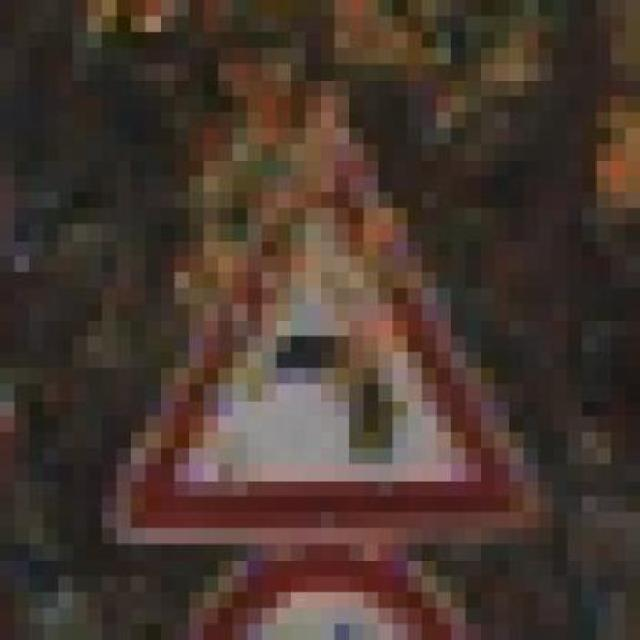Dangerous Left Curve Ahead: (73, 95, 553, 560)
